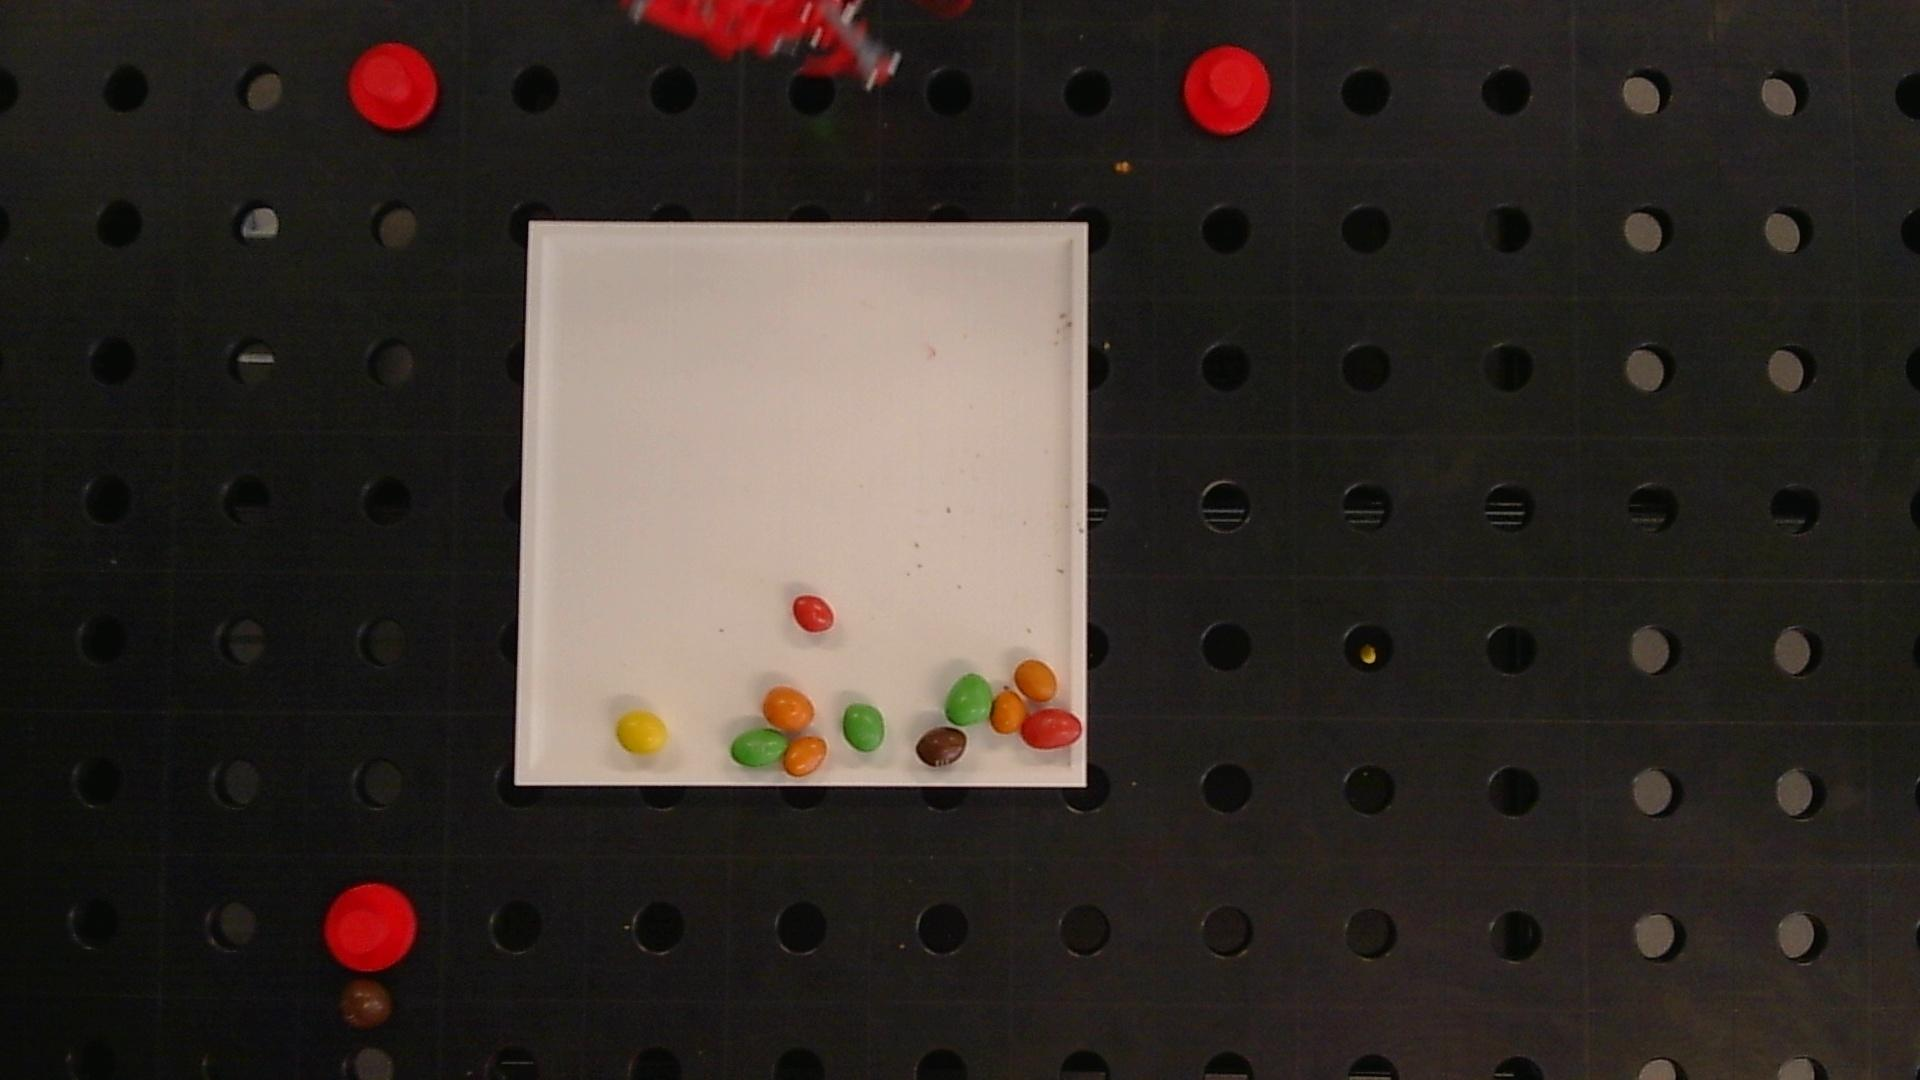brown: (915, 727, 967, 767)
green: (945, 674, 993, 724), (731, 728, 789, 767), (843, 703, 885, 752)
orange: (764, 687, 815, 733), (1014, 658, 1058, 702), (783, 736, 827, 775), (990, 690, 1025, 733)
red: (1021, 709, 1083, 748), (793, 593, 835, 633)
yellow: (616, 711, 667, 754)
